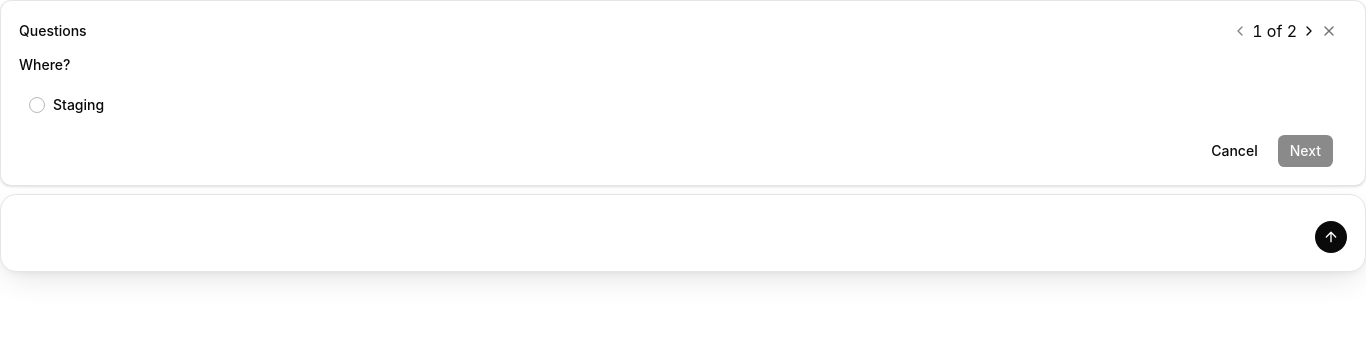
Test: TaskChatComposer › composer takeovers › Skip on the last question returns to a required question the arrows walked past
Step 1. Click the button named "Next question" → {"x": 1309, "y": 31}, box left=1301, top=23, right=1317, bottom=39
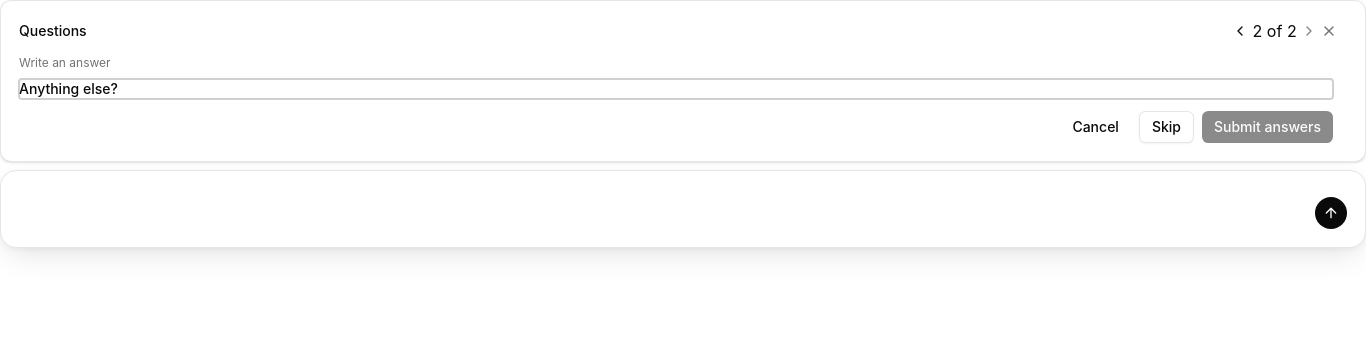
expect the text "Anything else?" is shown: met, box left=19, top=80, right=118, bottom=97
Step 2. Click the button "Skip" → {"x": 1166, "y": 127}, box left=1139, top=111, right=1194, bottom=143
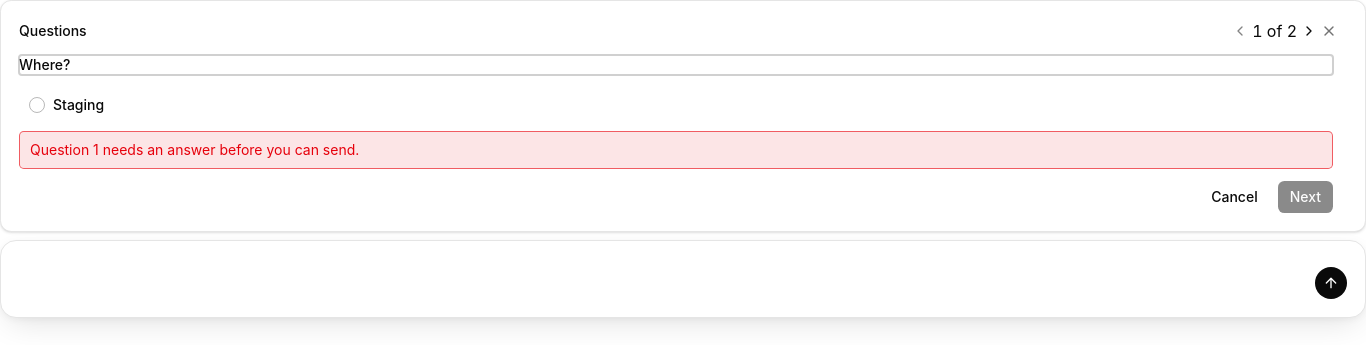
expect the text "Where?" is shown: met, box left=19, top=56, right=70, bottom=73
expect the text "Question 1 needs an answer before you can send." is shown: met, box left=19, top=131, right=1333, bottom=169
